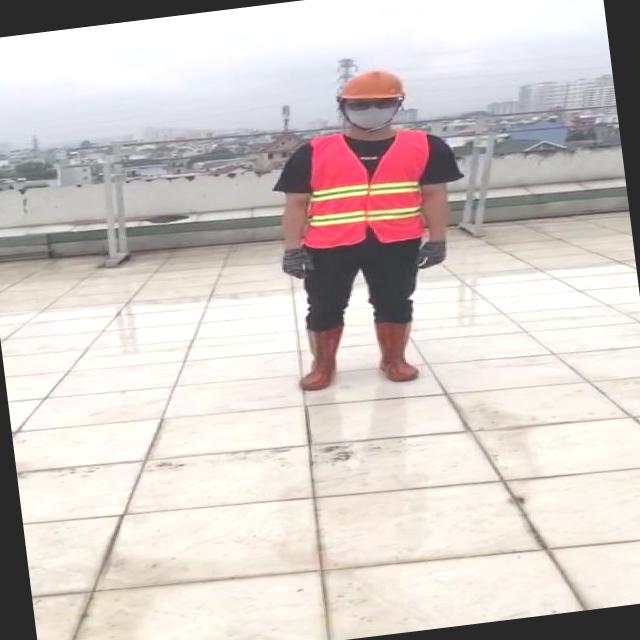boots: (292, 324, 353, 393), (365, 318, 426, 384)
gloves: (252, 222, 340, 296), (394, 218, 476, 284)
helmet: (332, 64, 410, 105)
vest: (292, 122, 442, 250)
